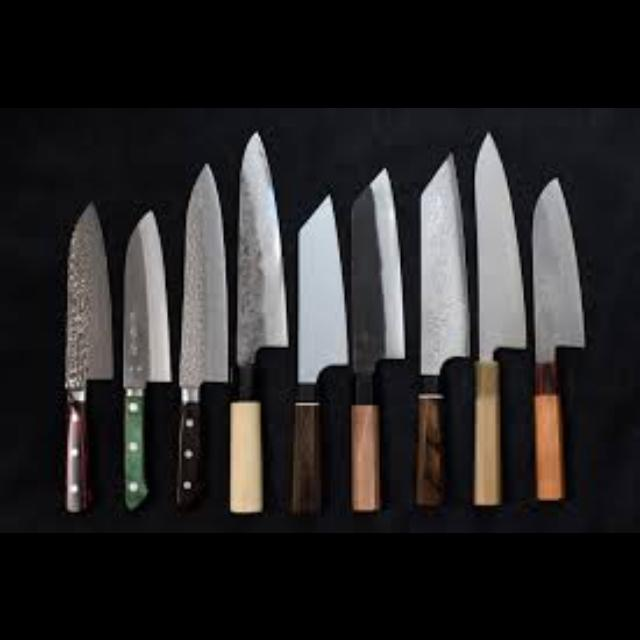knife: (228, 128, 286, 514), (470, 128, 528, 512), (412, 148, 468, 512), (347, 176, 407, 512), (289, 189, 347, 517), (174, 160, 226, 510), (532, 175, 586, 505), (63, 198, 114, 514), (121, 207, 172, 509)
